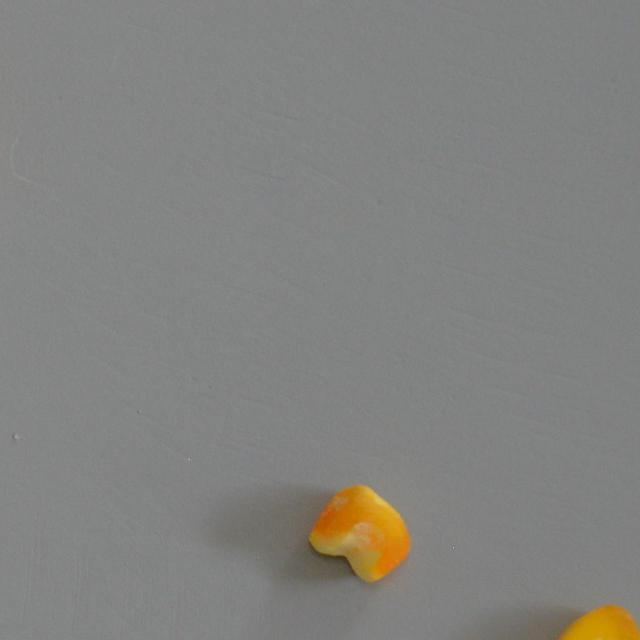no_canjicado: (548, 604, 640, 640)
pelicula: (307, 484, 411, 583)
